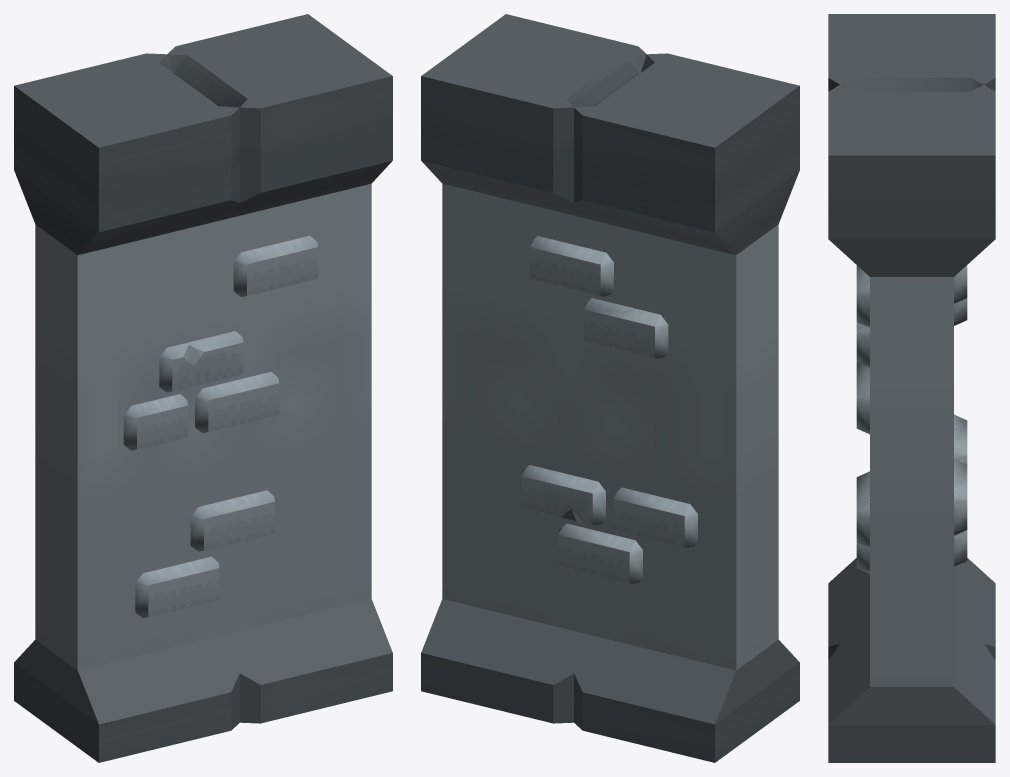
Rendered from wall_half.glb.
3 renders of one model, left to right at view 1: azimuth 30°, elevation 25°; view 2: azimuth 150°, elevation 25°; view 3: azimuth 270°, elevation 25°, orthographic.
Parts seen in each view (by area): view 1: wall_half; view 2: wall_half; view 3: wall_half.
Boxes of the visible parts, x1,y1,x2,y2 form: wall_half: (14,14,392,762); wall_half: (421,14,799,762); wall_half: (828,14,995,762).
Bounding box in the file's own units: 2 × 4 × 1.
1 material, 1 textured.
